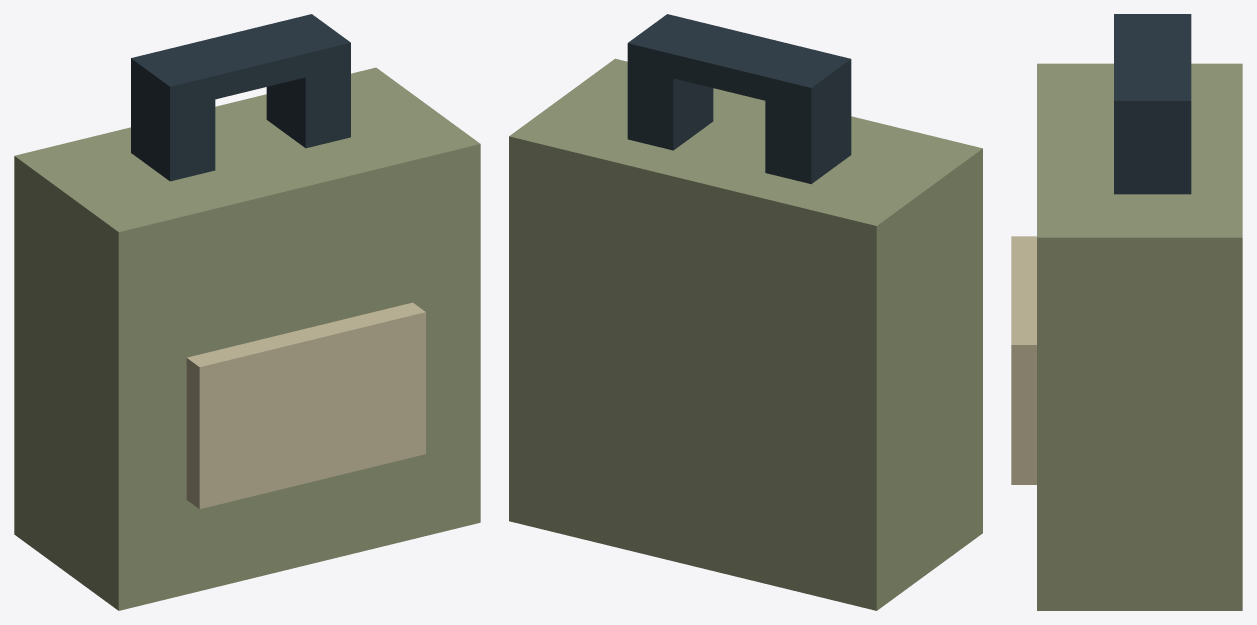
The model's file is property-11.glb.
3 renders of one model, left to right at view 1: azimuth 30°, elevation 25°; view 2: azimuth 150°, elevation 25°; view 3: azimuth 270°, elevation 25°, orthographic. The views are drawn at different scales.
Parts seen in each view (by area): view 1: Agent briefcase; view 2: Agent briefcase; view 3: Agent briefcase.
Boxes of the visible parts, x1,y1,x2,y2 form: Agent briefcase: [14, 14, 480, 610]; Agent briefcase: [509, 14, 982, 610]; Agent briefcase: [1011, 14, 1242, 610].
Bounding box in the file's own units: 1.28 × 1.6 × 0.72.
